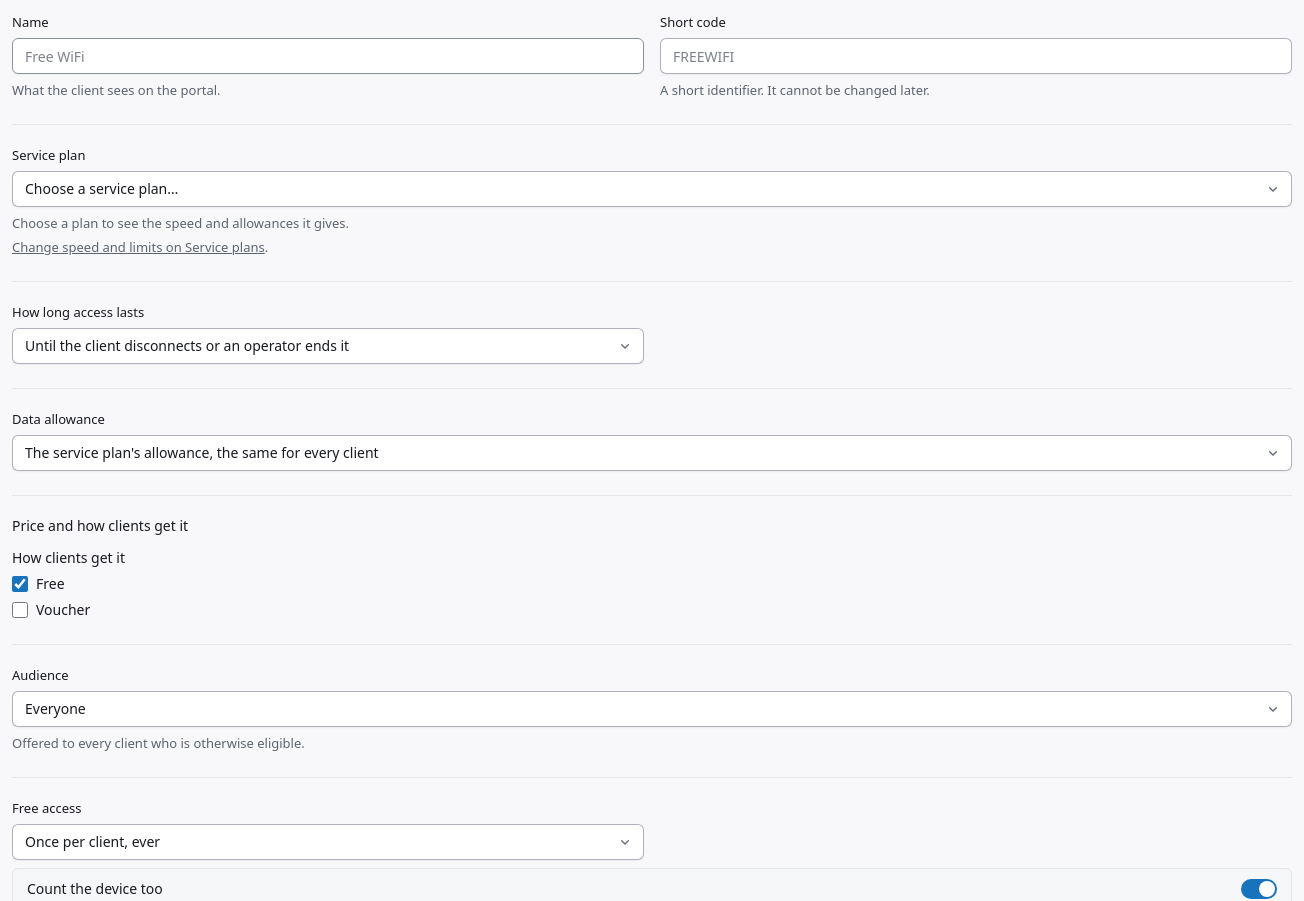
the data-allowance precedence notice › never claims an override when the plan sets no allowance to override
Select "No quota" in the dropdown with test id "service-plan" at (652, 189), box [12,171,1292,207]
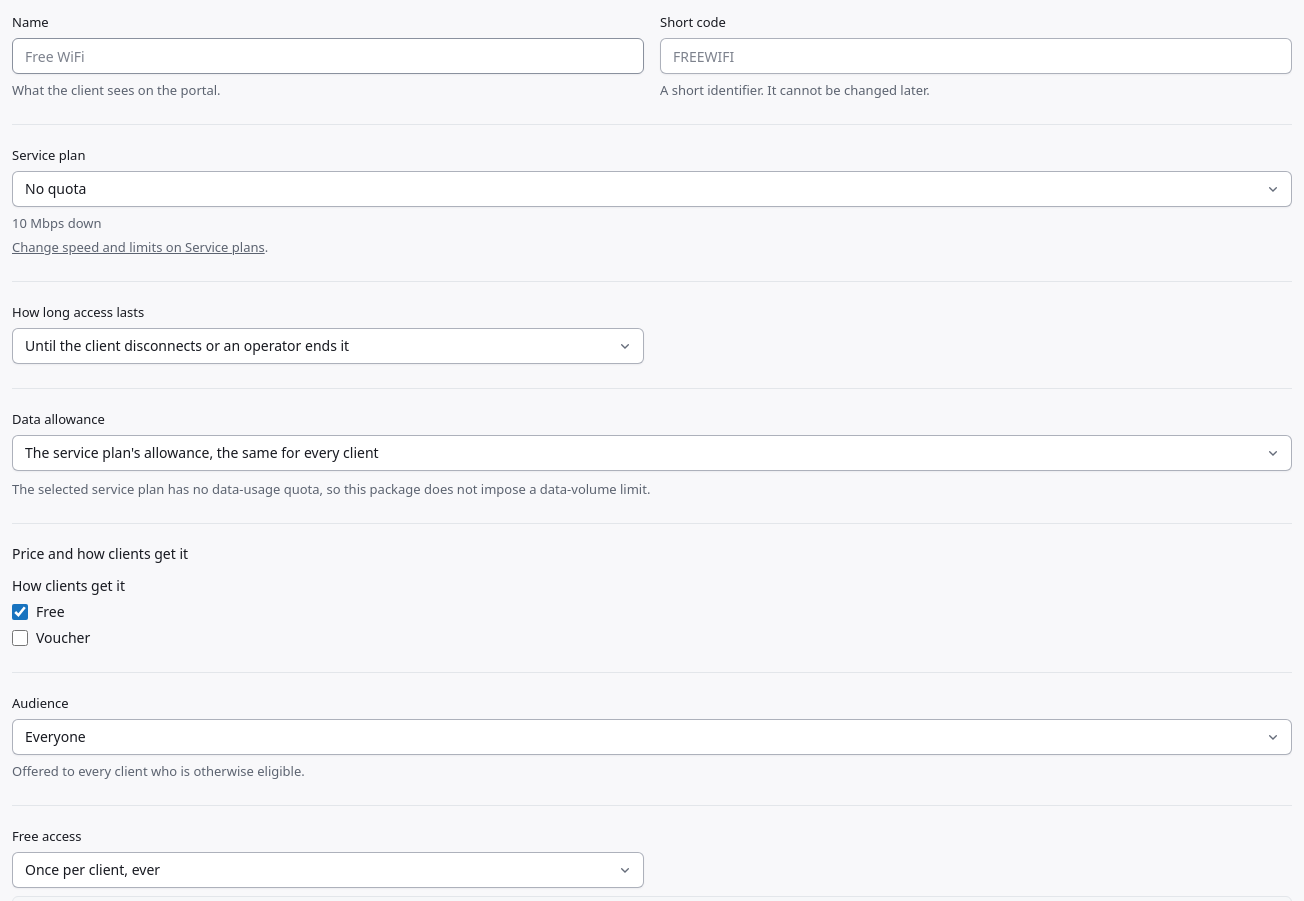
Select "An allowance per night of the stay" in the dropdown with test id "allocation-mode" at (652, 453), box [12,435,1292,471]
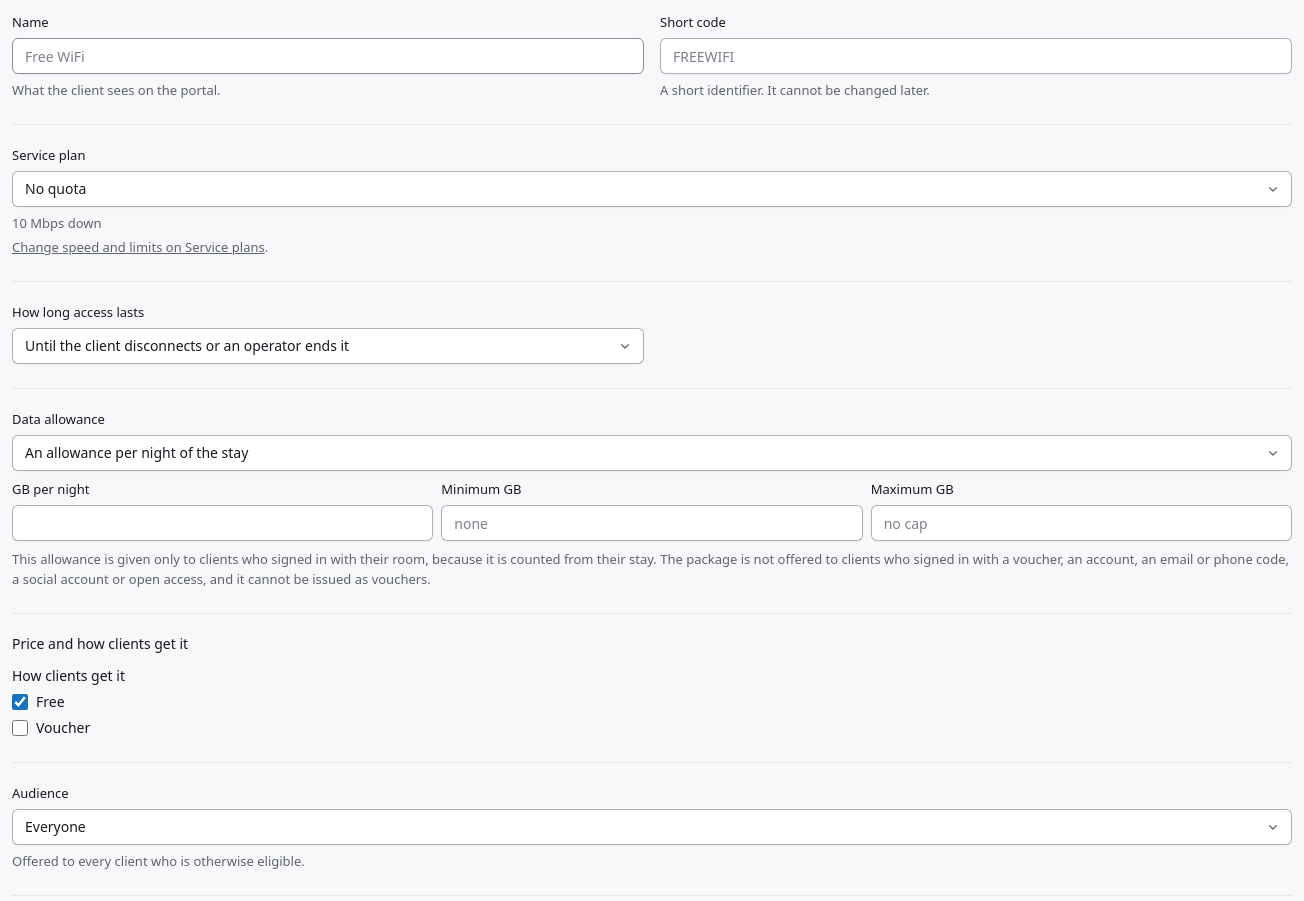
Type "2" into the number field with test id "gb-per-night" at (223, 523), box [12,505,433,541]
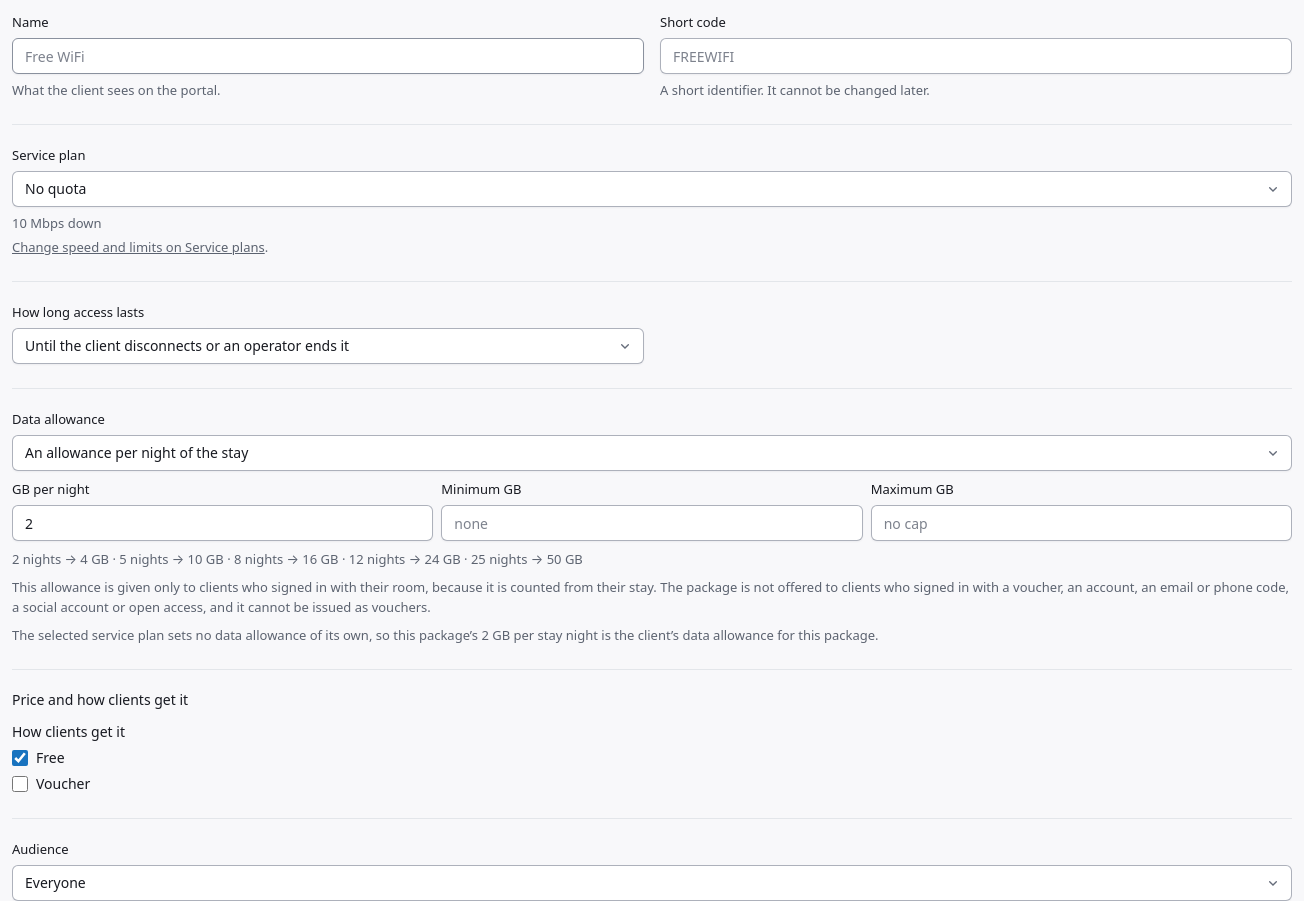
Check: the element with test id "allowance-notice" shows "sets no data allowance of its own", box [12,626,478,644]
Check: the element with test id "allowance-notice" shows "2 GB per stay night", box [12,626,878,644]
Check: the element with test id "allowance-notice" shows "data allowance for this package", box [489,626,878,644]
